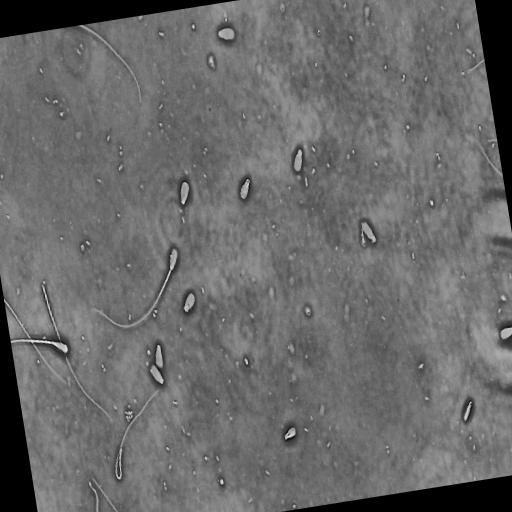loose-head: (361, 218, 377, 243), (461, 396, 474, 426), (148, 362, 164, 386), (182, 289, 196, 315), (216, 25, 236, 43), (291, 146, 303, 174), (178, 178, 190, 206), (238, 176, 250, 201), (154, 341, 164, 371), (282, 424, 297, 442)
loose-tail: (40, 280, 112, 423), (75, 24, 145, 112), (3, 293, 66, 386), (114, 388, 159, 481), (90, 475, 120, 512)
normal: (92, 245, 179, 330), (10, 335, 69, 356)
